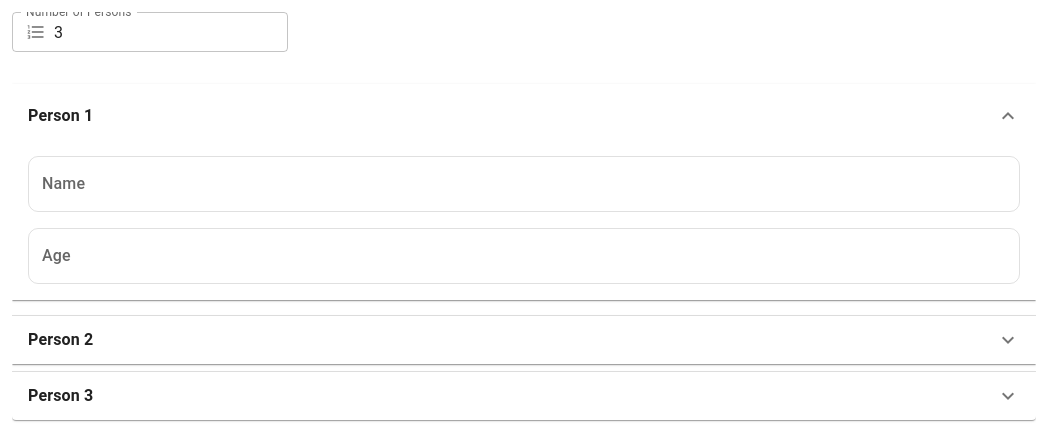
Test case: FormRepeater › removes groups when count input is decreased
Replace the text in the number field labelled "Number of Persons" with "1" at (171, 32), box [54, 12, 288, 52]
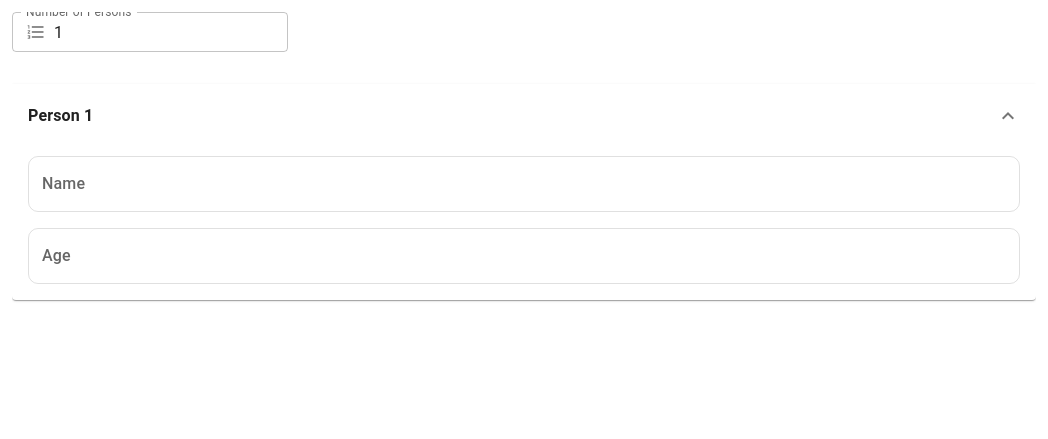
Result: the button "Person 2" is gone
